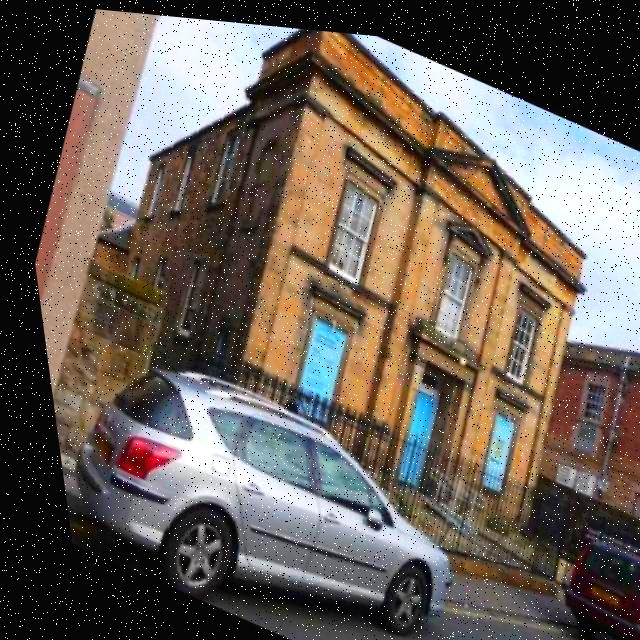license_plate: (75, 428, 106, 464), (576, 574, 606, 595)
